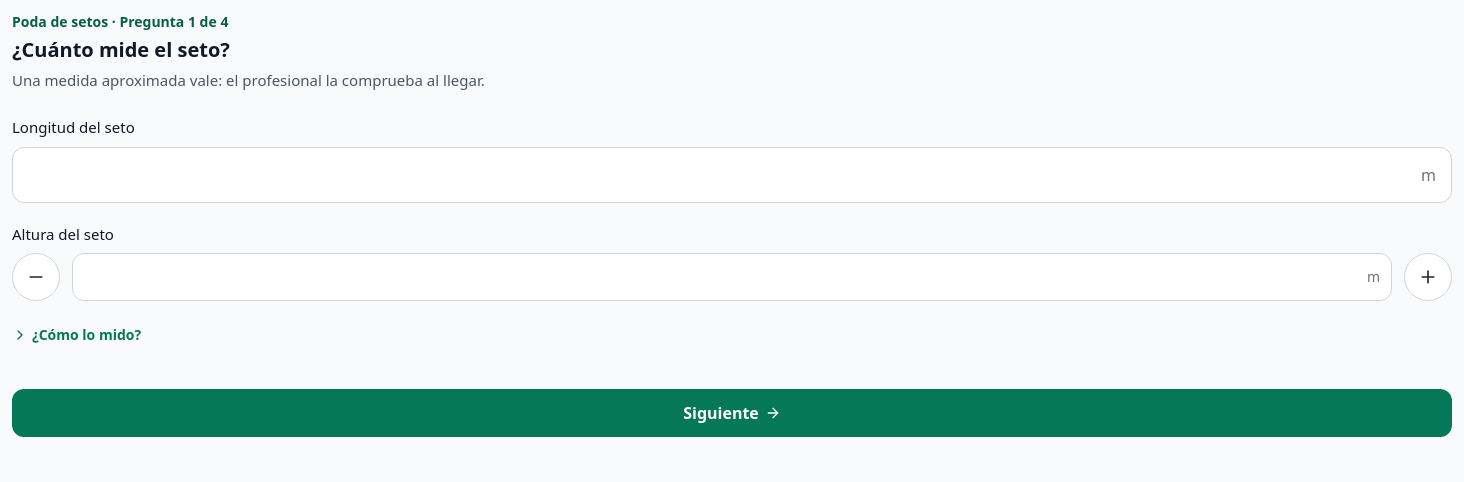
it: setos · tramo de tarifa en vivo › 4,5 m → «Tramo de tarifa: Alto (4-6 m)»
In the field labelled "Altura del seto": (732, 277) [72,253,1392,301], type "4,5"
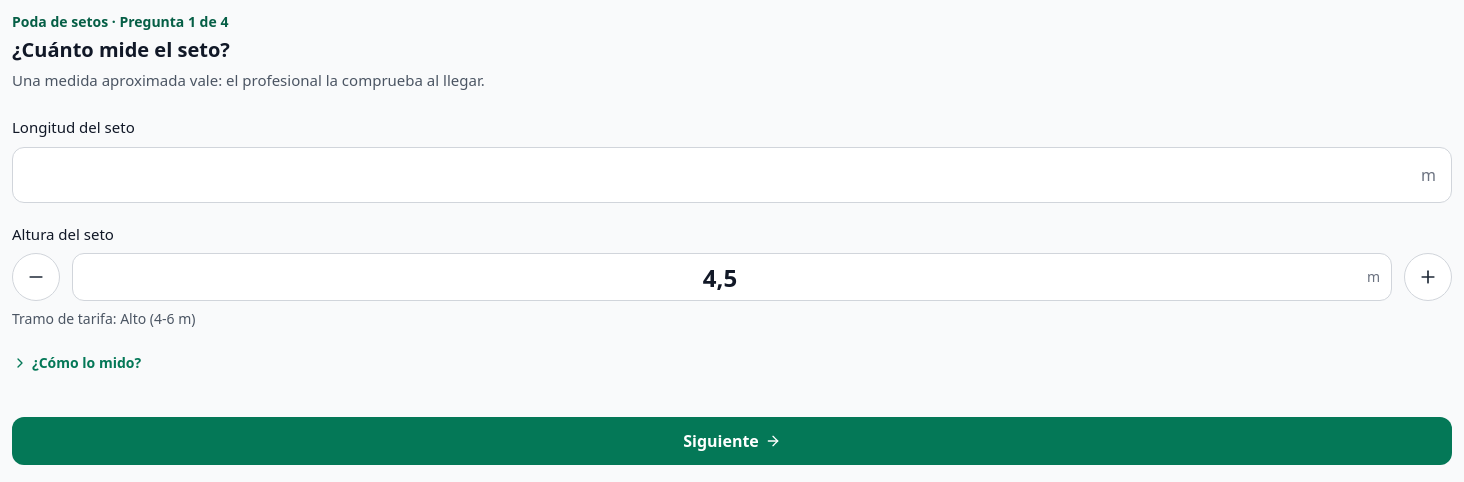
Now the text "Tramo de tarifa: Alto (4-6 m)" is shown, box [12,309,196,328]
